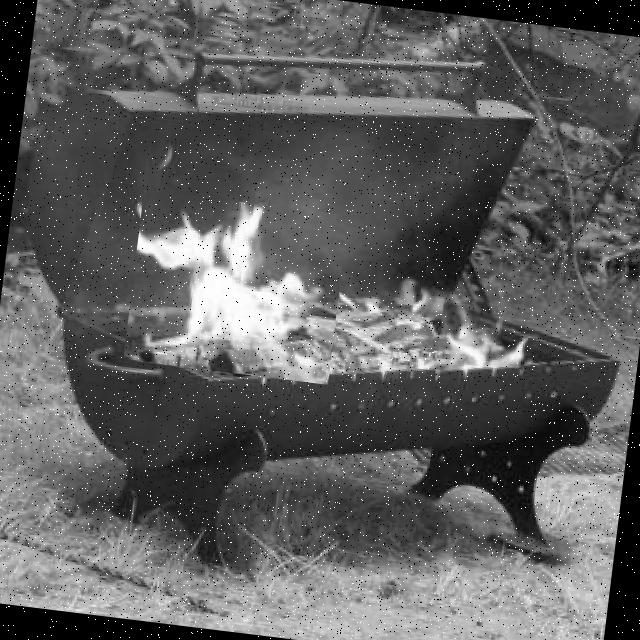fire: (123, 190, 348, 384), (433, 297, 530, 397)
